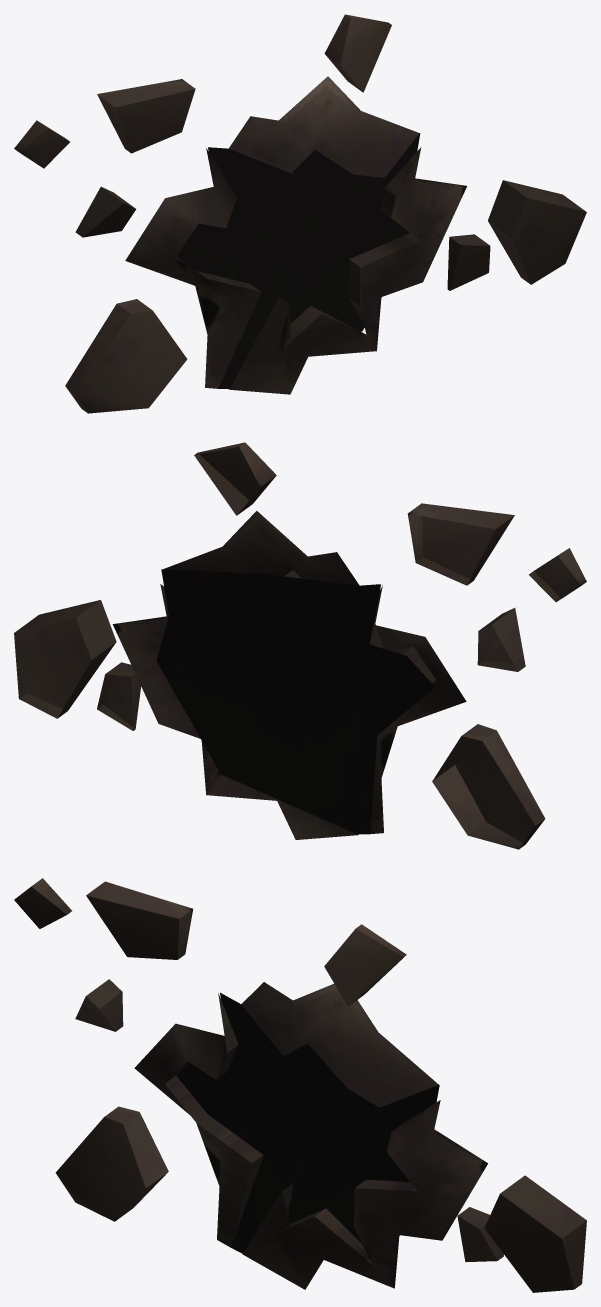
The model's file is Cranny_0_b4b26530__Cranny_3bef1b8c_c1f257.obj.
3 renders of one model, top to bottom at view 1: azimuth 30°, elevation 25°; view 2: azimuth 150°, elevation 25°; view 3: azimuth 330°, elevation 25°, orthographic. The views are drawn at different scales.
Bounding box in the file's own units: 2.86 × 1.83 × 0.2307.
1 material, 1 textured.
